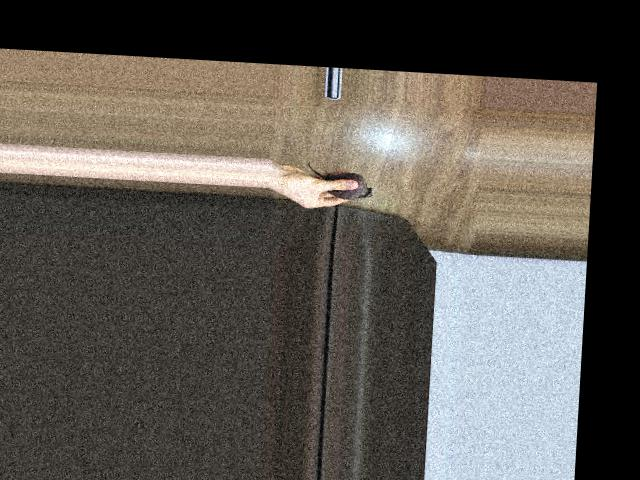beet: (307, 161, 375, 200)
